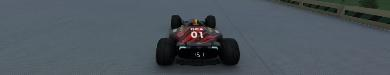Car: (155, 14, 240, 66)
Tree: (358, 0, 378, 8)
obstacles-Borders: (267, 0, 389, 33)
